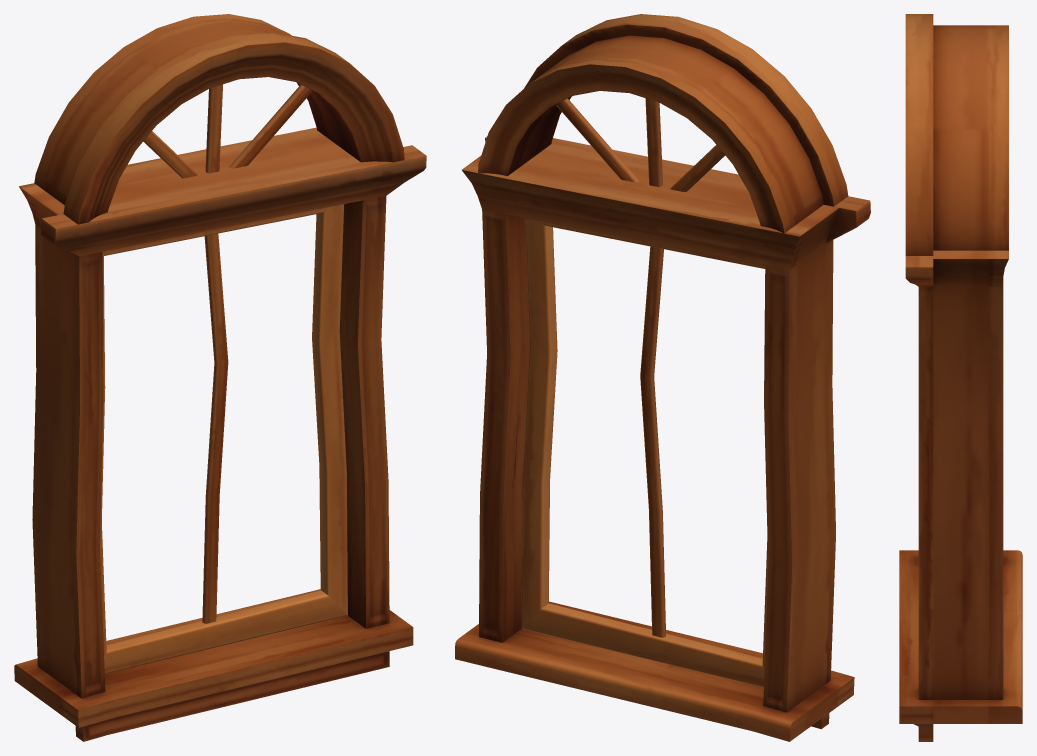
File: PropWindow01TypeG_2_1.FBX
The picture shows the model from 3 angles, left to right: view 1: azimuth 30°, elevation 25°; view 2: azimuth 150°, elevation 25°; view 3: azimuth 270°, elevation 25°; orthographic projection. The views are drawn at different scales.
Visible parts, largest first — view 1: PropWindow01TypeG_2_1; view 2: PropWindow01TypeG_2_1; view 3: PropWindow01TypeG_2_1.
Part boxes in pixels (<box>): PropWindow01TypeG_2_1: <box>14,14,426,741</box>; PropWindow01TypeG_2_1: <box>455,14,870,741</box>; PropWindow01TypeG_2_1: <box>899,14,1022,741</box>.
Size of what is drawn, in the model's own units: 1.49 by 2.54 by 0.4449.
